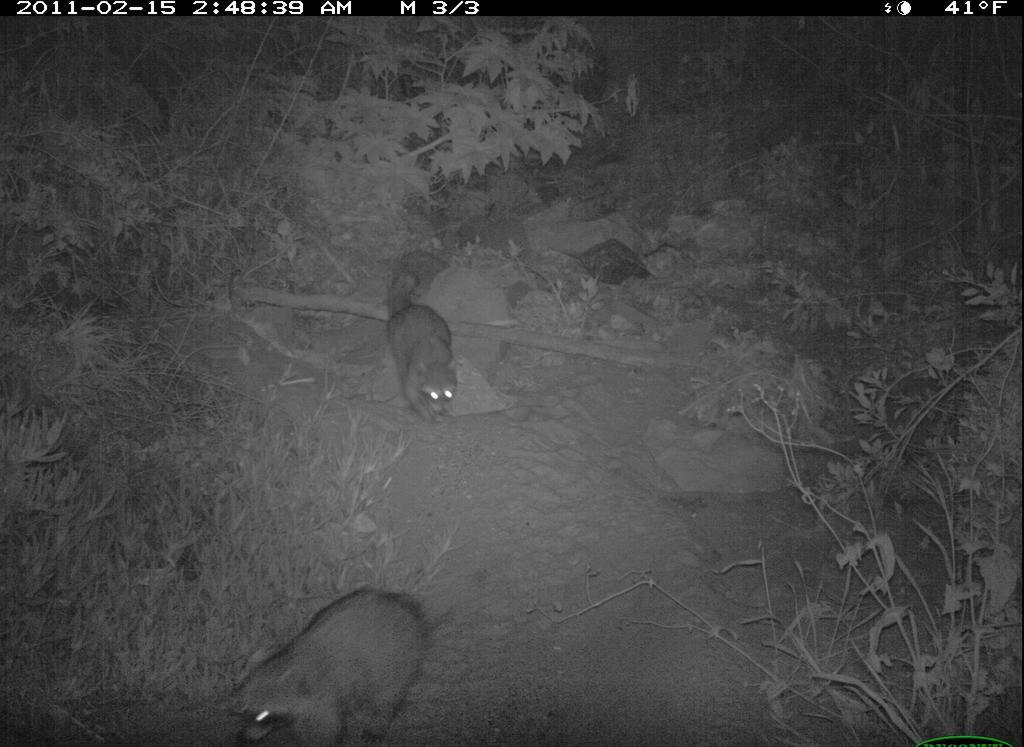raccoon: (225, 571, 496, 747), (354, 258, 478, 434)
